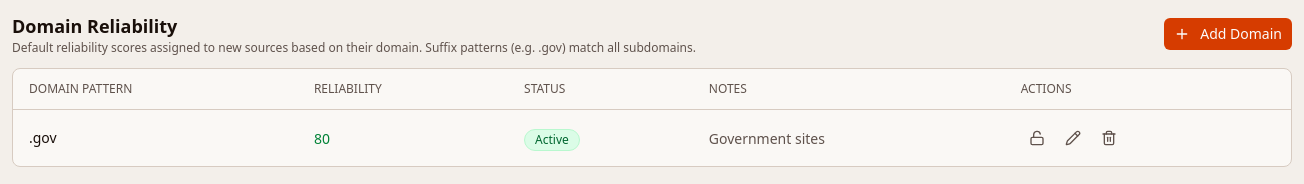
Test case: DomainReliabilityTable › cancels edit mode
Step 1. Click the button titled "edit" → (1073, 138), box top-left (1057, 122), bottom-right (1089, 154)
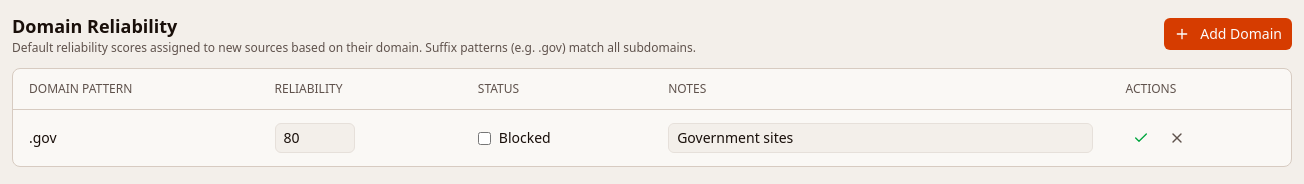
Step 2. Click the button titled "cancel" → (1178, 138), box top-left (1162, 122), bottom-right (1194, 154)
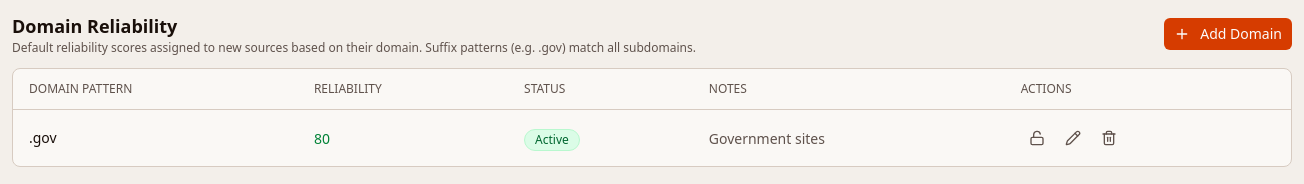
Check: the button titled "edit" is shown, box top-left (1057, 122), bottom-right (1089, 154)
